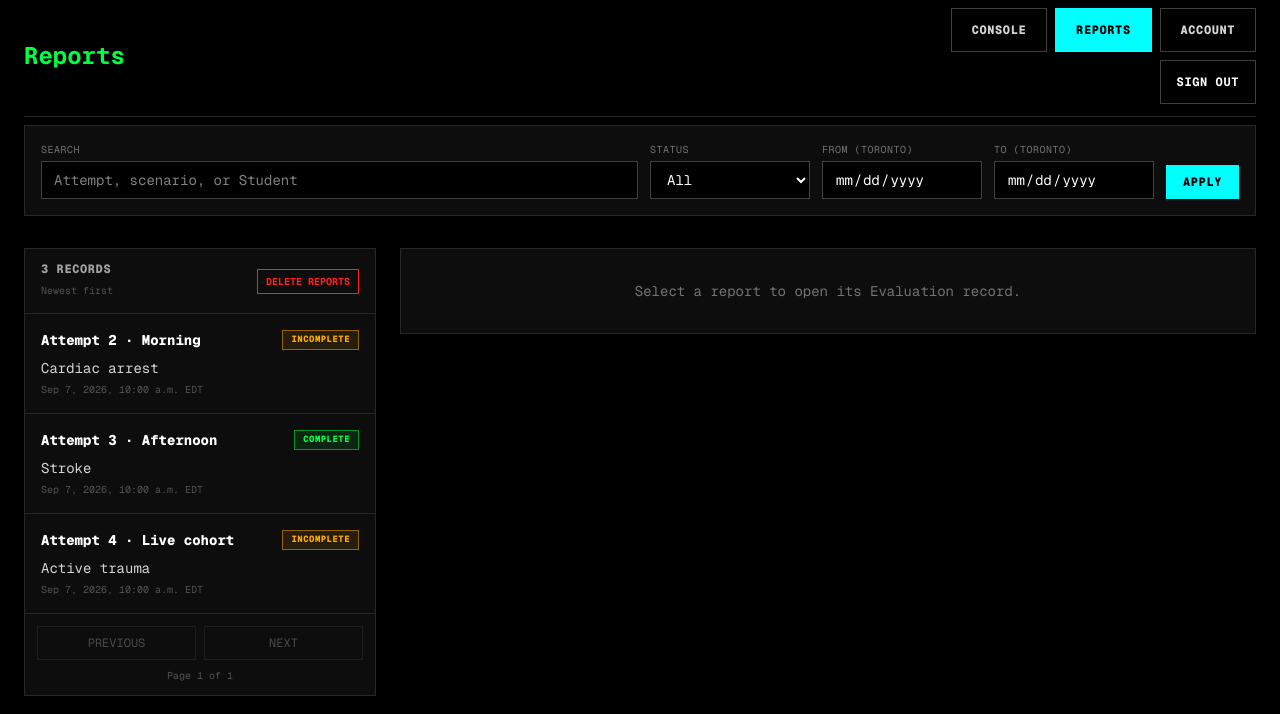
Scenario: ReportsPage › selects only eligible current-page reports and atomically deletes after contextual confirmation
Click the button "Delete reports" at (308, 281), box [257, 268, 359, 294]
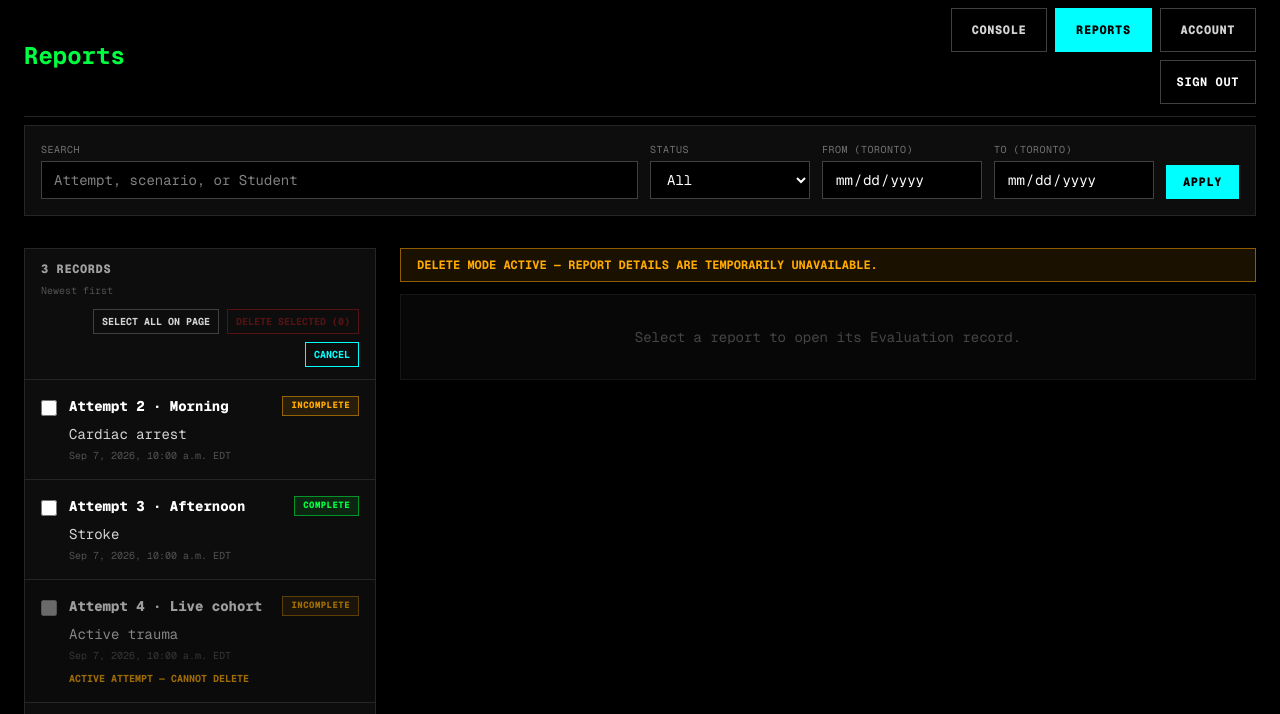
Check: the text "Delete mode active" is shown, box [417, 257, 878, 273]
Check: the checkbox named "Select Attempt 4 · Live cohort — Active trauma" is disabled, box [41, 600, 57, 616]
Check: the text "Active Attempt — cannot delete" is shown, box [69, 672, 249, 685]
Click the button "Select all on page" at (156, 322), box [93, 309, 219, 334]
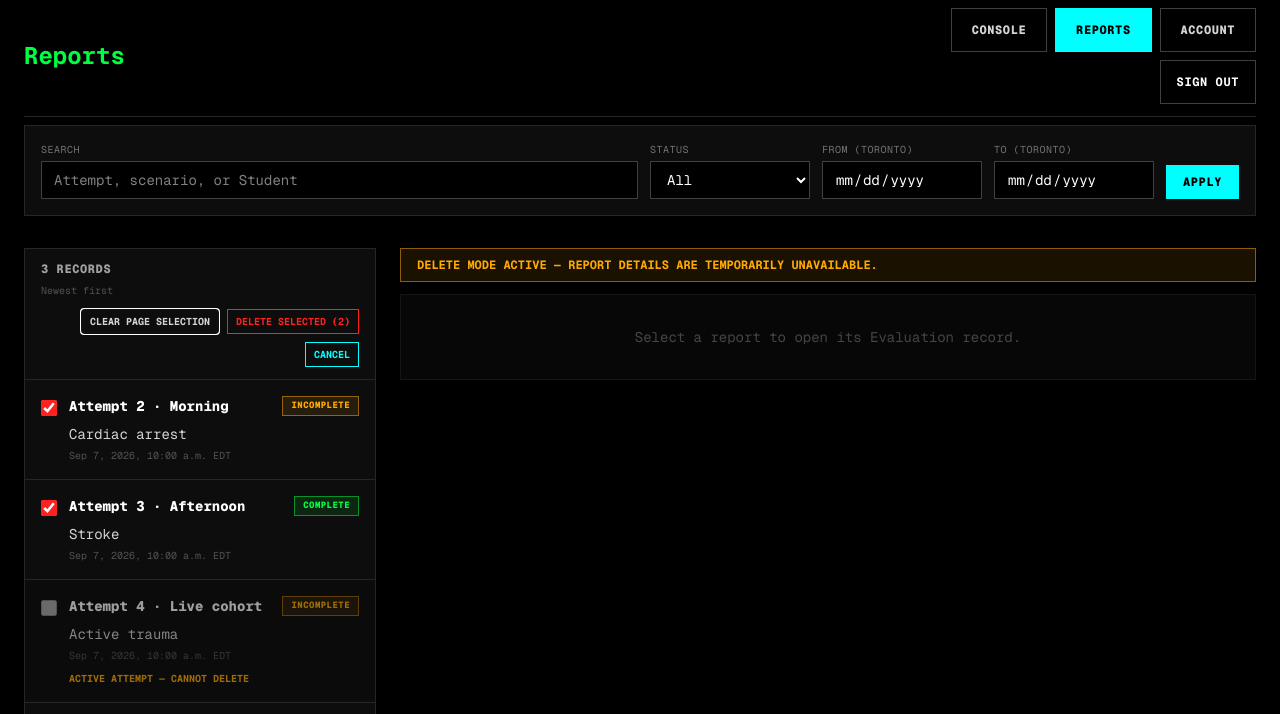
Check: the button "Delete selected (2)" is enabled
Click the button "Delete selected (2)" at (293, 322), box [227, 309, 359, 334]
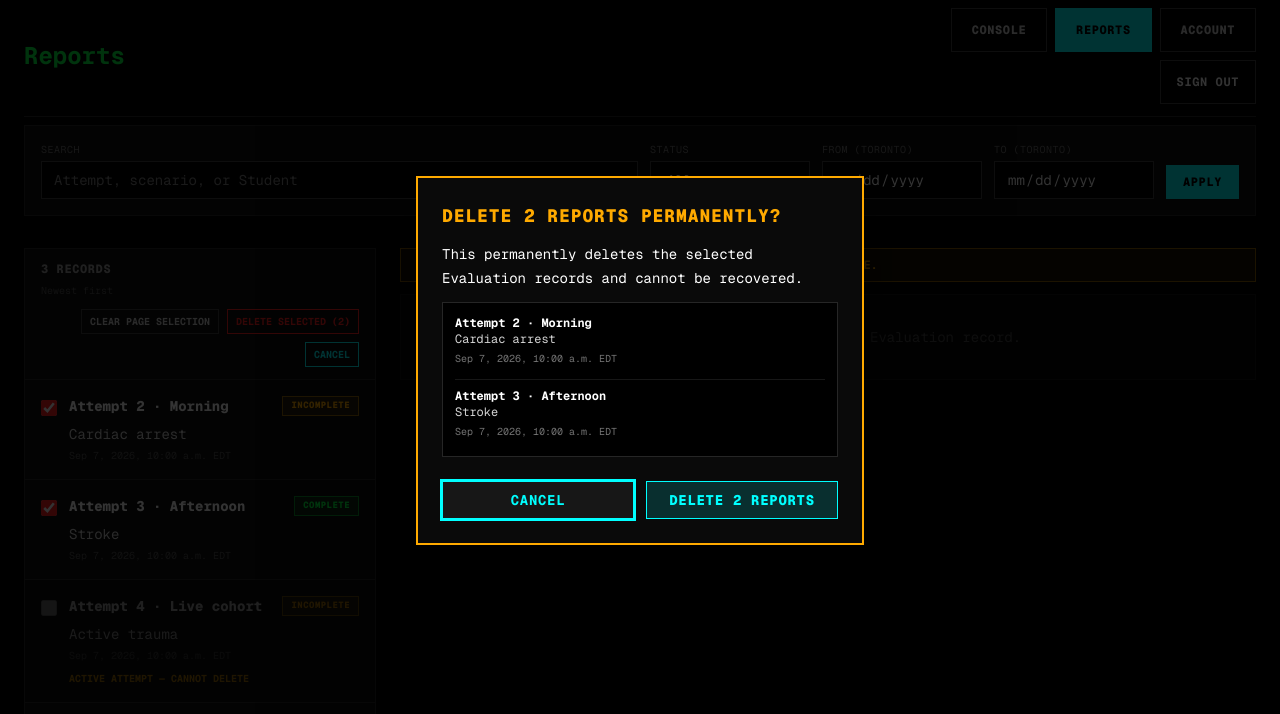
Check: the dialog "Delete 2 reports permanently?" shows "Morning", box [455, 314, 592, 330]
Check: the dialog "Delete 2 reports permanently?" shows "Cardiac arrest", box [455, 330, 556, 346]
Check: the dialog "Delete 2 reports permanently?" shows "Afternoon", box [455, 388, 606, 404]
Click the button "Delete 2 reports" at (742, 500), box [646, 480, 838, 518]
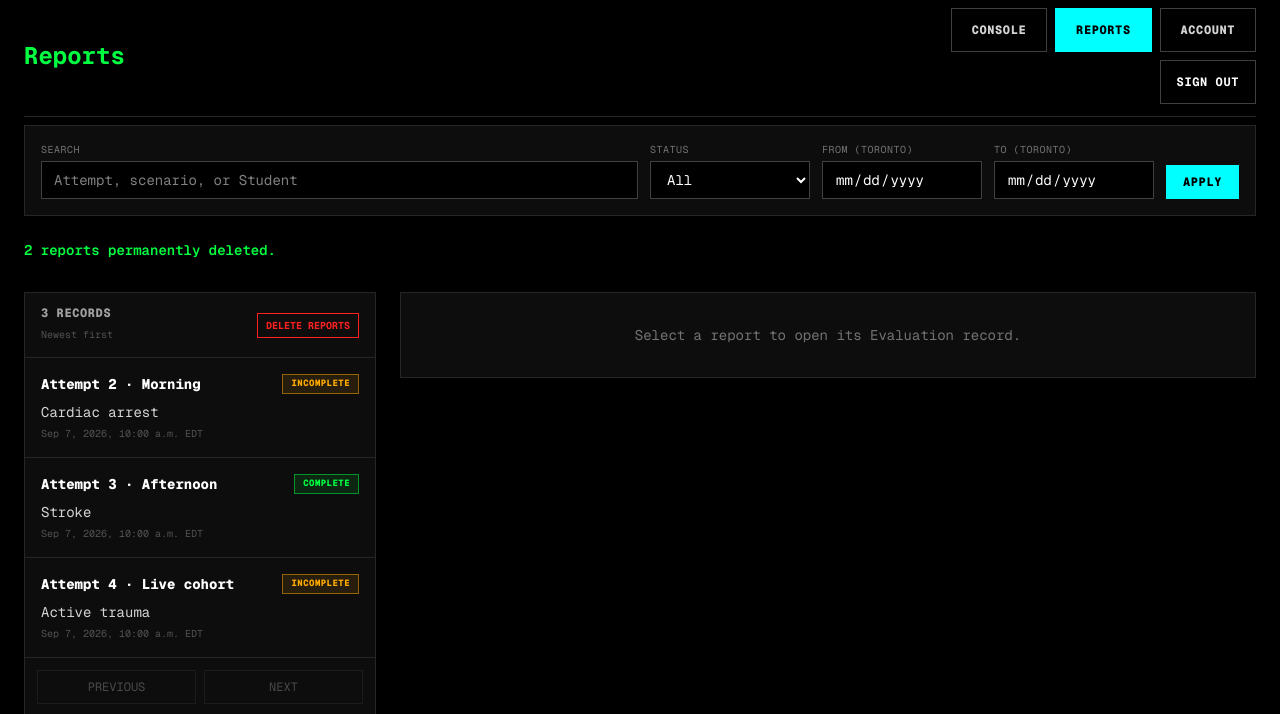
Check: the text "2 reports permanently deleted." is shown, box [24, 241, 276, 259]
Check: the button "Delete reports" is shown, box [257, 312, 359, 338]
